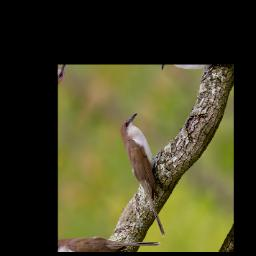Cuckoo: (89, 107, 206, 238)
